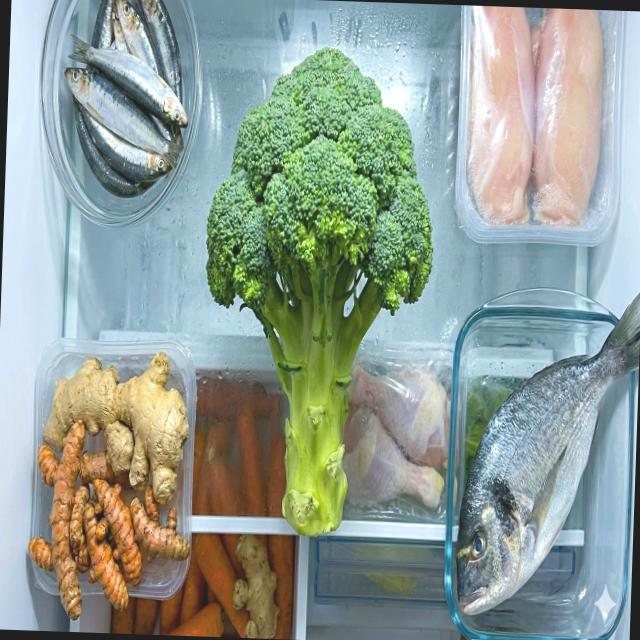brocolli: (195, 40, 440, 542)
carrot: (111, 376, 302, 638)
chicken: (464, 6, 606, 230), (338, 362, 452, 509)
fish: (454, 284, 640, 622), (58, 0, 191, 199)
ginger: (41, 348, 192, 511), (230, 536, 282, 638)
turmeric: (24, 419, 195, 626)
